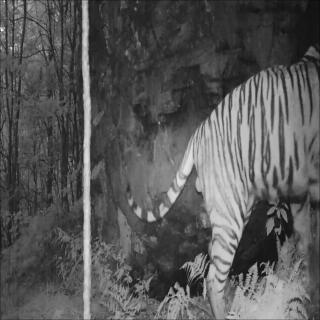Tiger: (113, 41, 320, 318)
